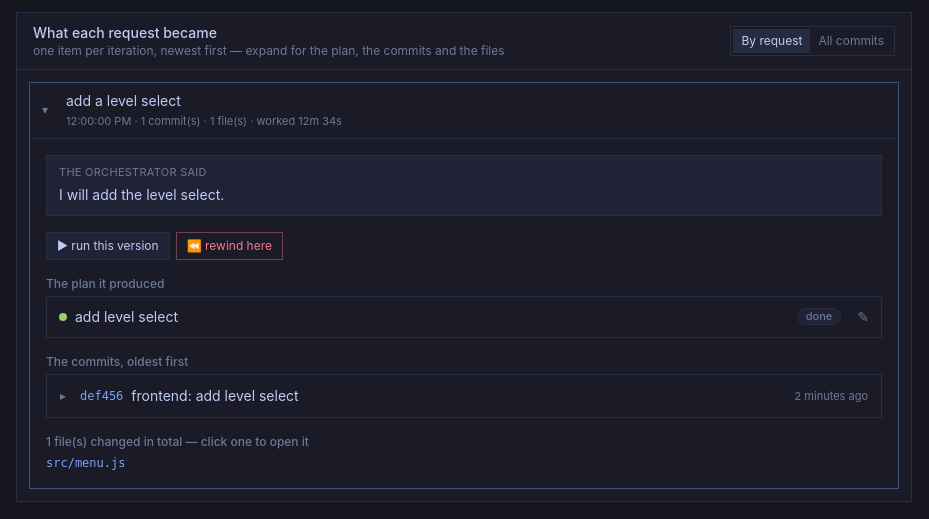
Test: from a reply to its commits › has a plain git-log mode beside the by-request one
This screenshot has width=929, height=519.
Expected: the text "What each request became" is shown, [33, 24, 217, 41]
Click the button "All commits" at {"x": 851, "y": 41}, box [810, 29, 892, 53]
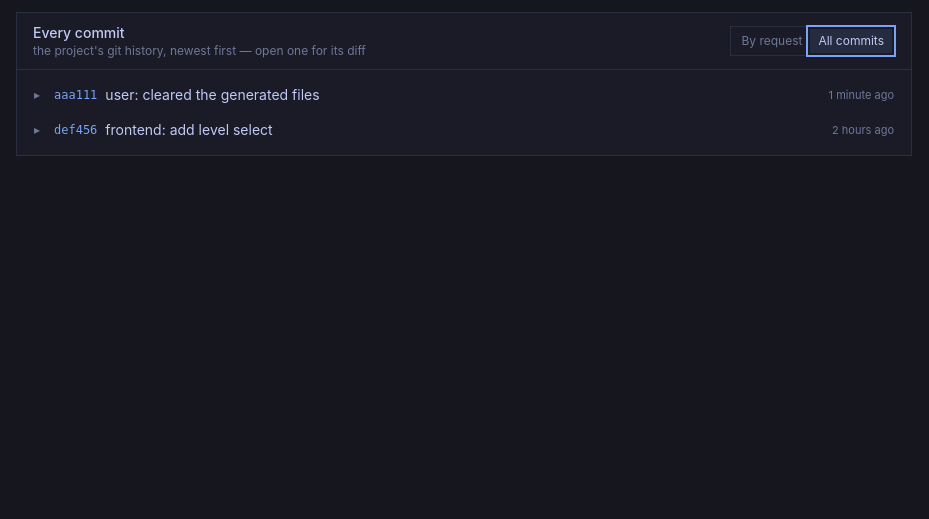
Expected: the text "frontend: add level select" is shown, [105, 121, 273, 138]
Expected: the text "Every commit" is shown, [33, 24, 125, 41]
Expected: the text "user: cleared the generated files" is shown, [105, 86, 320, 103]
Note: And back, without losing the request that was open.
Click the button "By request" at {"x": 772, "y": 41}, box [733, 29, 810, 53]
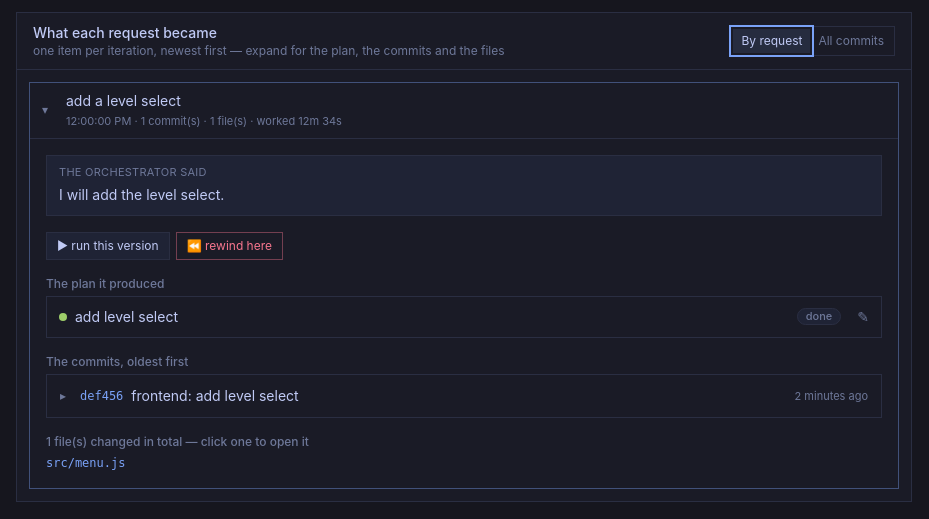
Expected: the text "What each request became" is shown, [33, 24, 217, 41]
